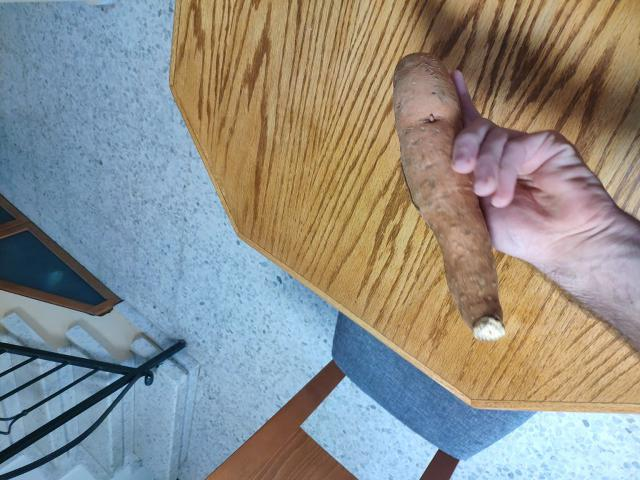sweet_potato: (381, 58, 508, 344)
